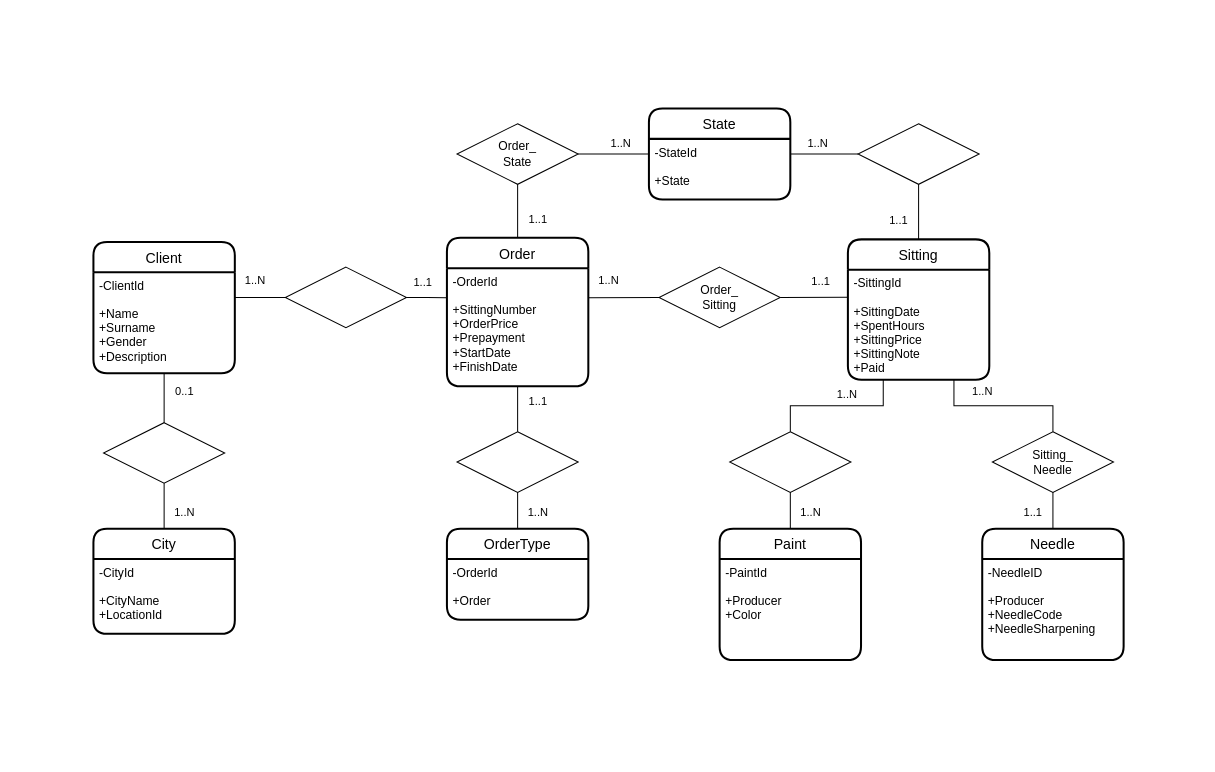
The diagram is 1215 pixels wide and 772 high, and some of its shapes have lost their labels. The centre of each missing label's shape, as x and y in pixels:
Client_ Order: point (345, 297)
Location: point (164, 452)
Order_ OrderType: point (517, 461)
Sitting_ Paint: point (790, 461)
Sitting_ State: point (918, 153)
